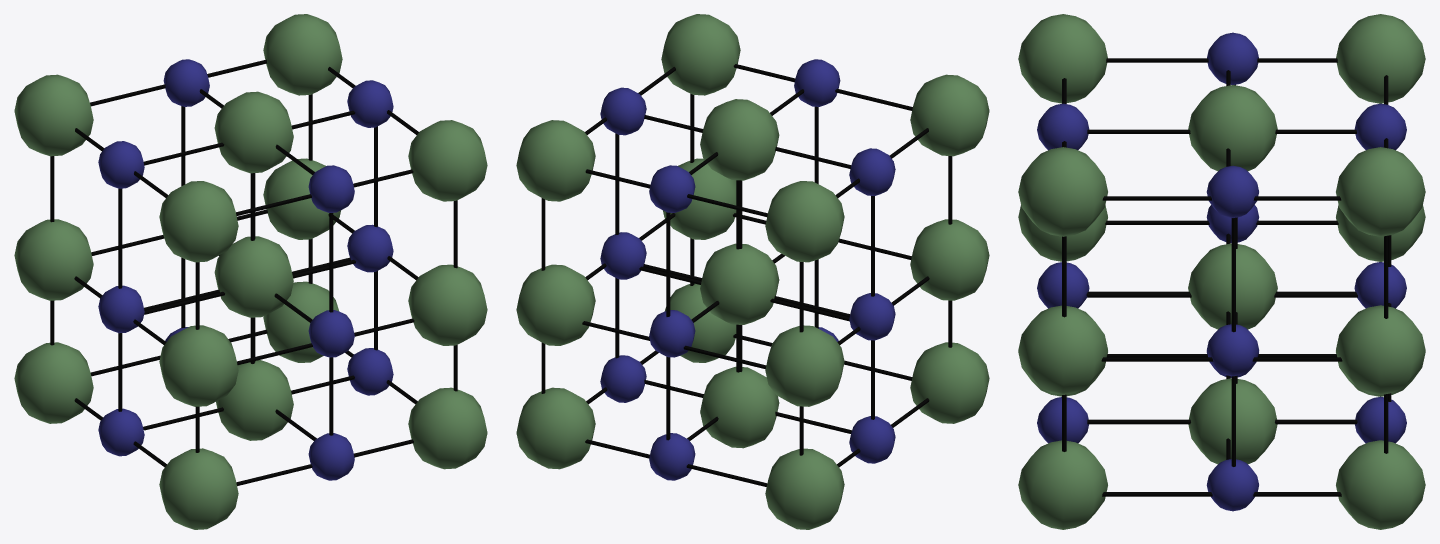
File: Nacl.fbx
The picture shows the model from 3 angles, left to right: view 1: azimuth 30°, elevation 25°; view 2: azimuth 150°, elevation 25°; view 3: azimuth 270°, elevation 25°; orthographic projection. The views are drawn at different scales.
Visible parts, largest first — view 1: NaCl; view 2: NaCl; view 3: NaCl.
Boxes of the visible parts, x1,y1,x2,y2 form: NaCl: (14,14,487,529); NaCl: (516,14,989,529); NaCl: (1018,14,1425,529).
Bounding box in the file's own units: 50.39 × 51.46 × 50.73.
